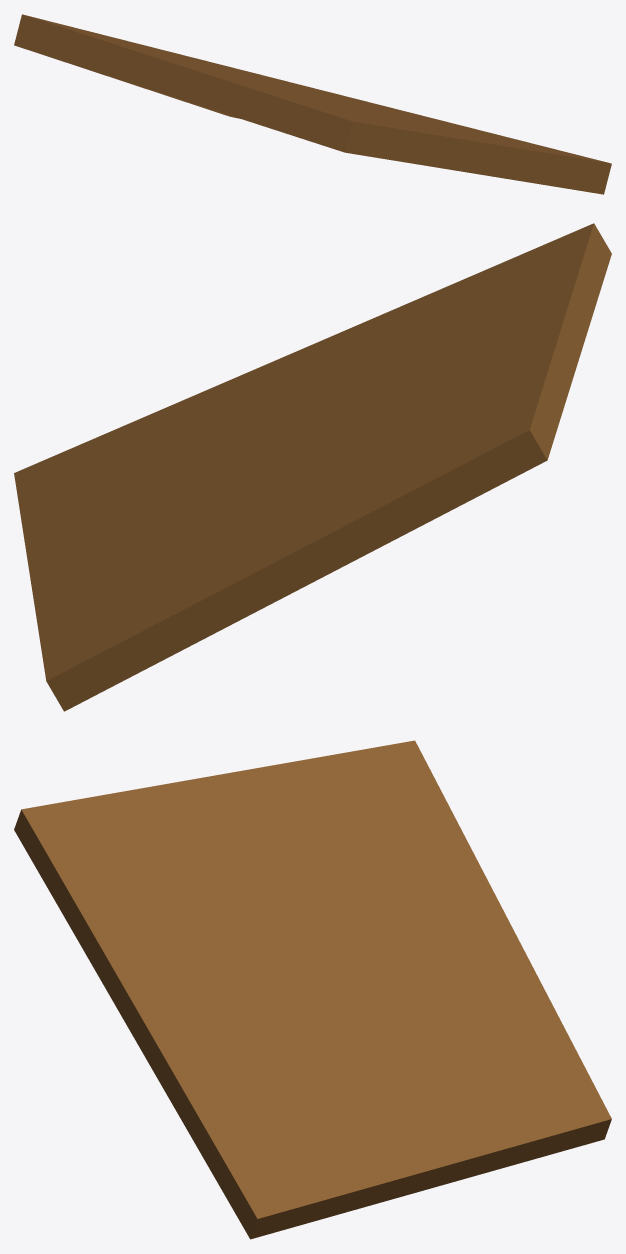
File: MPlatform4.fbx
3 renders of one model, top to bottom at view 1: azimuth 30°, elevation 25°; view 2: azimuth 150°, elevation 25°; view 3: azimuth 270°, elevation 25°, orthographic. The views are drawn at different scales.
Parts seen in each view (by area): view 1: Cylinder.037; view 2: Cylinder.037; view 3: Cylinder.037.
Boxes of the visible parts, x1=… form: Cylinder.037: x1=14, y1=14, x2=611, y2=194; Cylinder.037: x1=14, y1=223, x2=611, y2=711; Cylinder.037: x1=14, y1=740, x2=611, y2=1239.
Bounding box in the file's own units: 3775 × 1676 × 3648.
